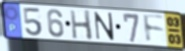5: (21, 6, 44, 37)
6: (46, 8, 65, 39)
7: (121, 12, 141, 44)
F: (141, 13, 166, 45)
H: (69, 9, 95, 42)
N: (93, 11, 115, 42)
